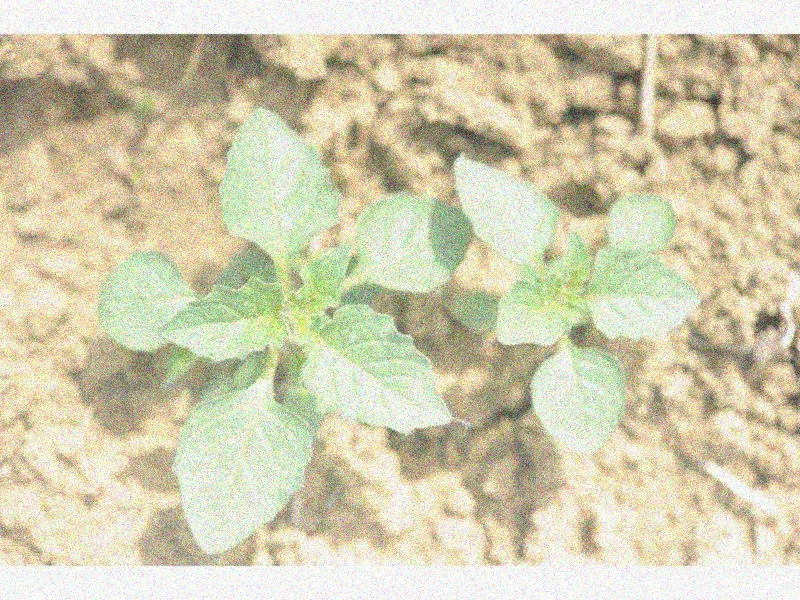nightshade: (97, 104, 472, 553), (451, 156, 701, 452)
